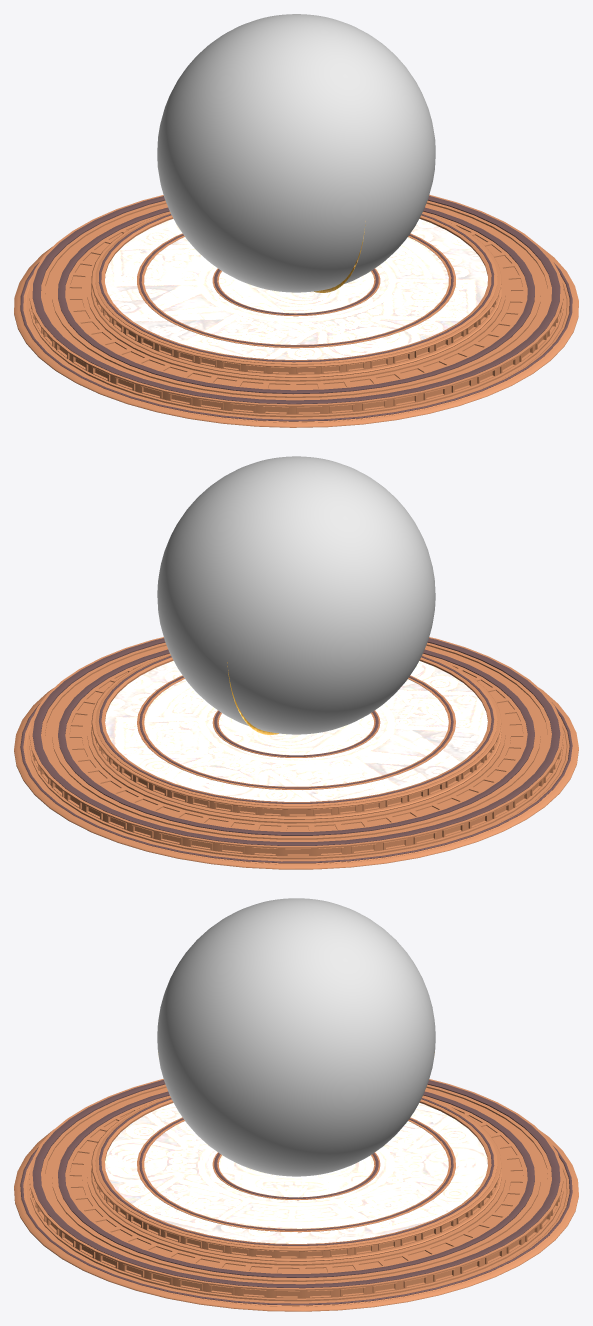
File: Token_1.fbx
3 renders of one model, top to bottom at view 1: azimuth 30°, elevation 25°; view 2: azimuth 150°, elevation 25°; view 3: azimuth 270°, elevation 25°, orthographic.
Visible parts, largest first — view 1: Sphere, Podium, Circle.001; view 2: Sphere, Podium, Circle.001; view 3: Sphere, Podium, Circle.001.
Part boxes in pixels (box(x1,y1,x2,y2)): Sphere: box(157, 14, 435, 292); Podium: box(14, 194, 578, 427); Circle.001: box(105, 219, 487, 359); Sphere: box(157, 456, 435, 734); Podium: box(14, 637, 578, 869); Circle.001: box(105, 661, 487, 801); Sphere: box(157, 898, 435, 1176); Podium: box(14, 1079, 578, 1311); Circle.001: box(105, 1103, 487, 1243).
Size of the model in its own units: 1830 by 1005 by 1830.
